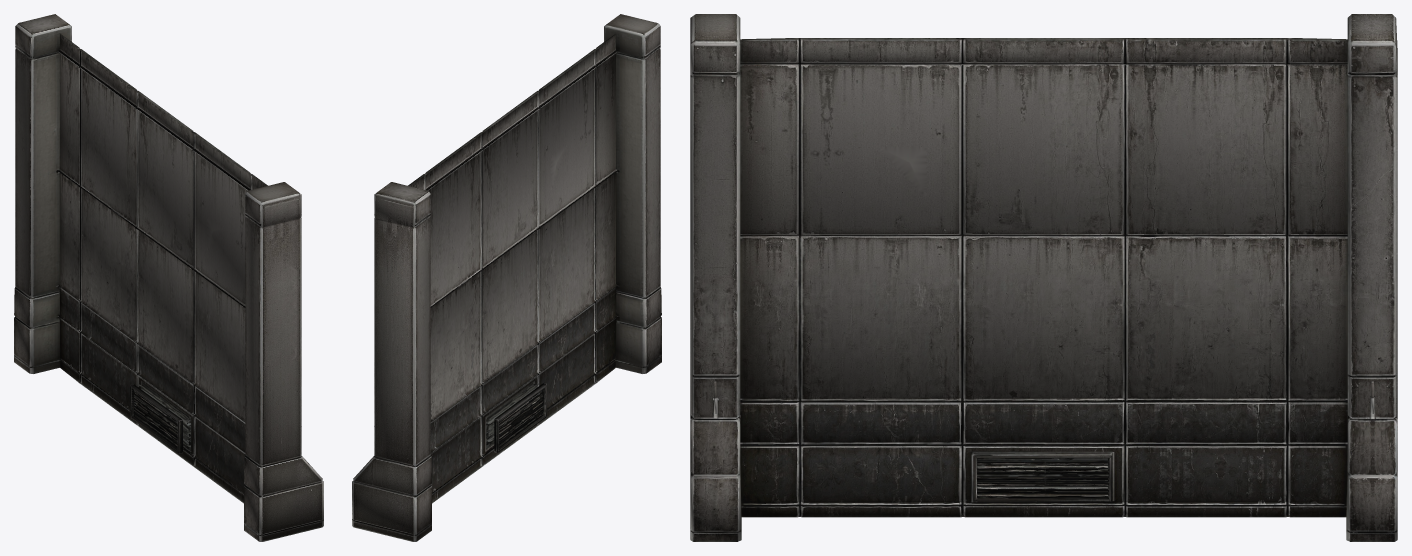
File: Concrete_wall_Large_1B.glb
3 renders of one model, left to right at view 1: azimuth 30°, elevation 25°; view 2: azimuth 150°, elevation 25°; view 3: azimuth 270°, elevation 25°, orthographic. The views are drawn at different scales.
Visible parts, largest first — view 1: tripo_node_cc88cba6-7b22-4108-bf8d-6e881a6a9c72; view 2: tripo_node_cc88cba6-7b22-4108-bf8d-6e881a6a9c72; view 3: tripo_node_cc88cba6-7b22-4108-bf8d-6e881a6a9c72.
Boxes of the visible parts, x1=… form: tripo_node_cc88cba6-7b22-4108-bf8d-6e881a6a9c72: x1=14, y1=14, x2=323, y2=541; tripo_node_cc88cba6-7b22-4108-bf8d-6e881a6a9c72: x1=352, y1=14, x2=661, y2=541; tripo_node_cc88cba6-7b22-4108-bf8d-6e881a6a9c72: x1=690, y1=14, x2=1397, y2=541.
Bounding box in the file's own units: 0.1504 × 0.7559 × 0.998.
Materials: 1 (1 with a texture image).
